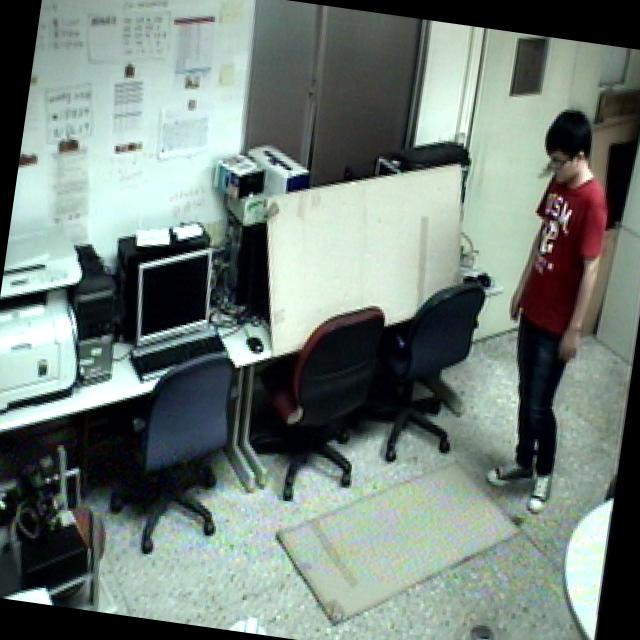stand: (467, 98, 628, 524)
